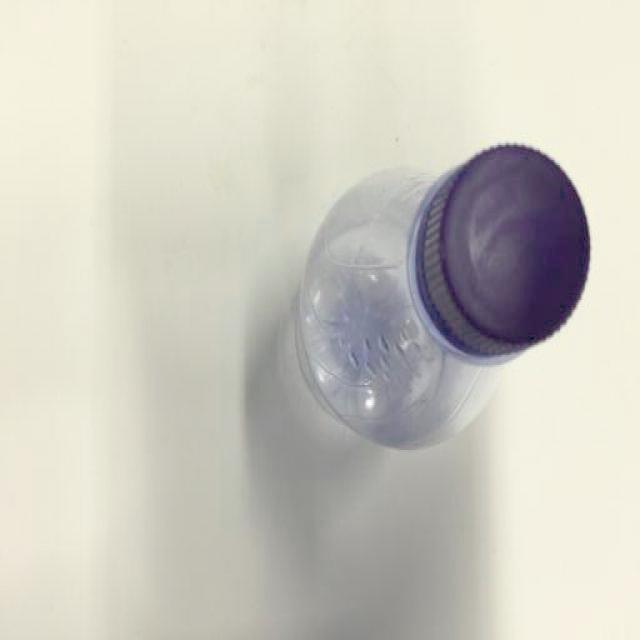bottle: (295, 142, 593, 450)
